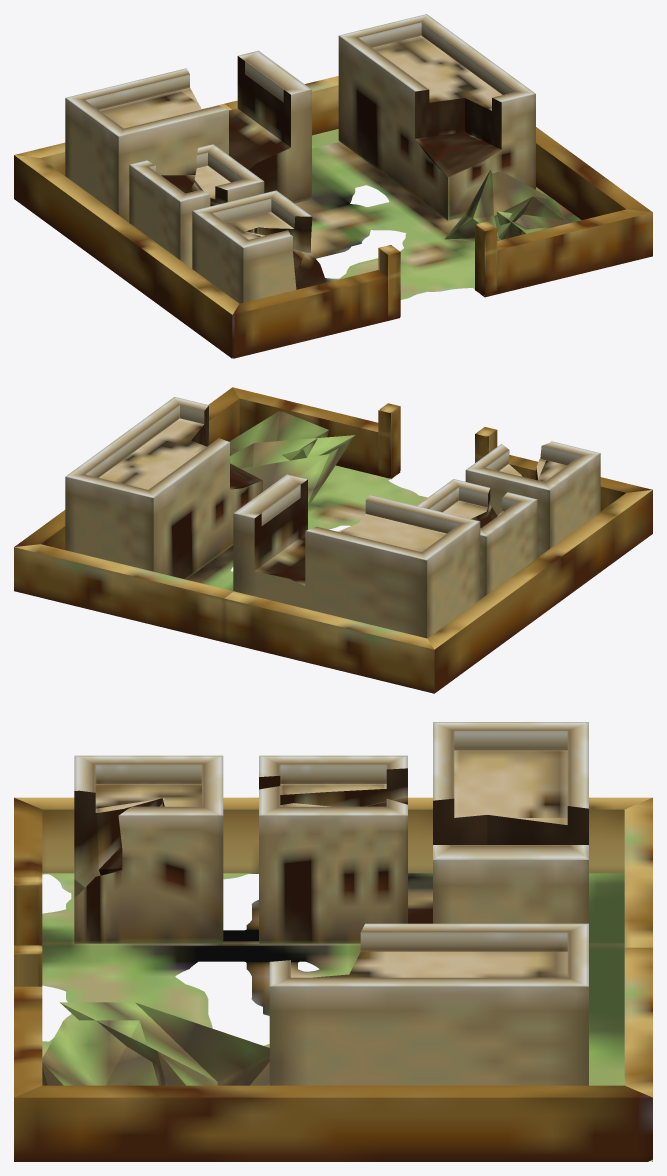
File: Poly_World_Map_Town_House_11_Damaged.obj
3 renders of one model, top to bottom at view 1: azimuth 30°, elevation 25°; view 2: azimuth 150°, elevation 25°; view 3: azimuth 270°, elevation 25°, orthographic. The views are drawn at different scales.
Parts seen in each view (by area): view 1: Cube.002_Cube.001, Grid, Plane, Cube.002_Cube.003; view 2: Cube.002_Cube.001, Grid, Plane, Cube.002_Cube.003; view 3: Cube.002_Cube.001, Grid, Plane, Cube.002_Cube.003.
Boxes of the visible parts, bbox=[...] form: Cube.002_Cube.001: bbox=[65, 14, 535, 268]; Grid: bbox=[14, 76, 652, 358]; Plane: bbox=[232, 129, 581, 358]; Cube.002_Cube.003: bbox=[192, 190, 326, 303]; Cube.002_Cube.001: bbox=[65, 397, 537, 638]; Grid: bbox=[14, 387, 652, 693]; Plane: bbox=[186, 411, 427, 590]; Cube.002_Cube.003: bbox=[465, 441, 600, 557]; Cube.002_Cube.001: bbox=[259, 722, 588, 1085]; Grid: bbox=[14, 797, 652, 1161]; Plane: bbox=[42, 873, 652, 1161]; Cube.002_Cube.003: bbox=[74, 755, 223, 943].
Bounding box in the file's own units: 1 × 0.25 × 0.9.
1 material, 1 textured.
